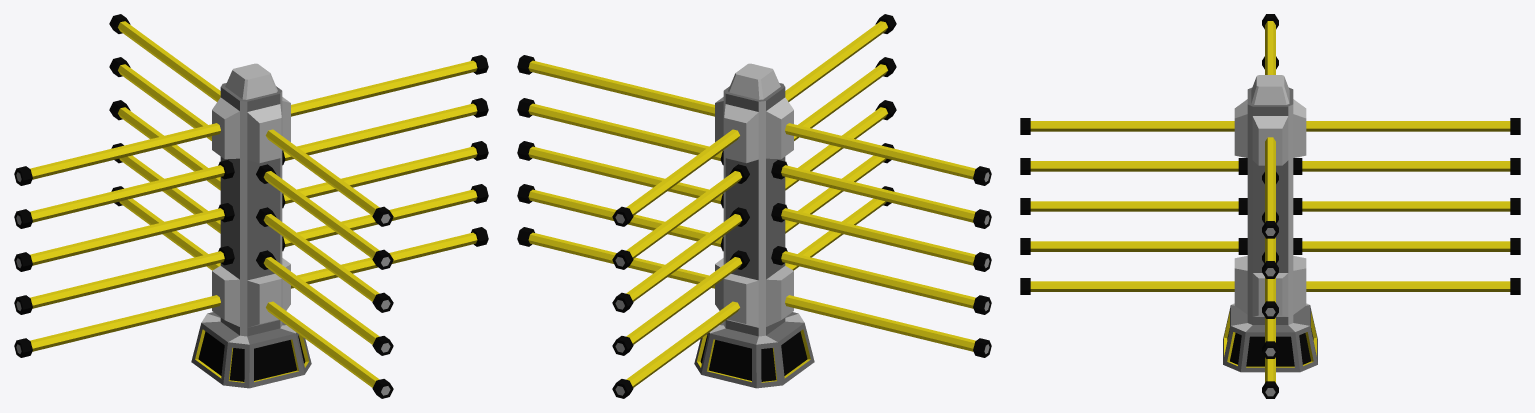
The model's file is Wall4.fbx.
The picture shows the model from 3 angles, left to right: view 1: azimuth 30°, elevation 25°; view 2: azimuth 150°, elevation 25°; view 3: azimuth 270°, elevation 25°; orthographic projection. The views are drawn at different scales.
Parts seen in each view (by area): view 1: Wall4; view 2: Wall4; view 3: Wall4.
Boxes of the visible parts, x1,y1,x2,y2 form: Wall4: [14, 14, 488, 398]; Wall4: [517, 14, 991, 398]; Wall4: [1020, 14, 1520, 398].
Bounding box in the file's own units: 227 × 136 × 227.
